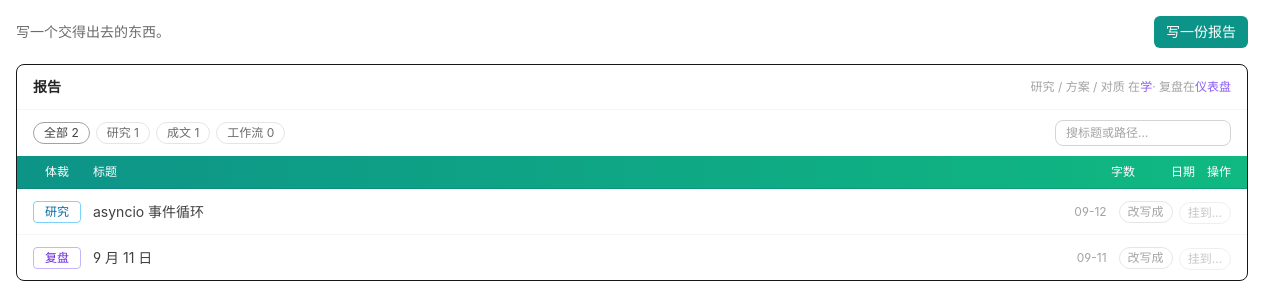
WorkPage · 产出 › 按分组筛掉别的——筛选是**分组**（研究/成文/工作流），不是每一种 kind 一个胶囊
Expected: the text "asyncio 事件循环" is shown, [93, 202, 204, 220]
# 「成文」这一组管着交付/产出/方案/复盘/对质；这份夹具里落进去的是复盘那份
What coordinates should you click on to do the following:
click the button "成文 1"
I would click on:
 (183, 133)
Its box is [156, 122, 210, 144].
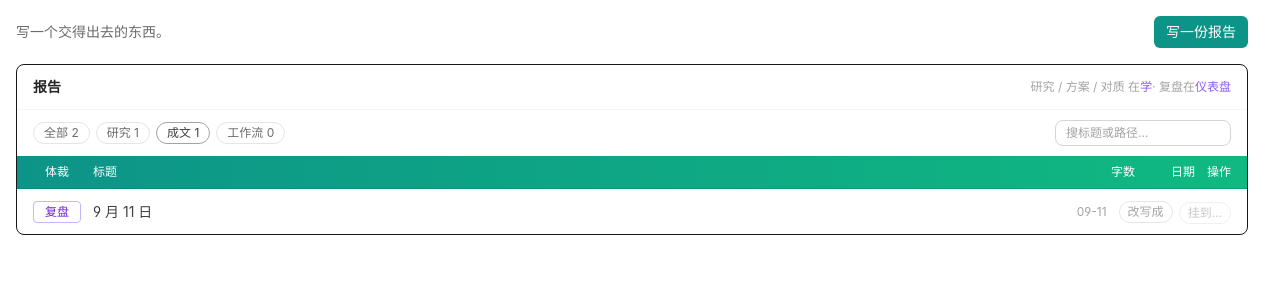
Expected: the text "9 月 11 日" is shown, [93, 202, 152, 220]
Expected: the button "asyncio 事件循环" is gone
